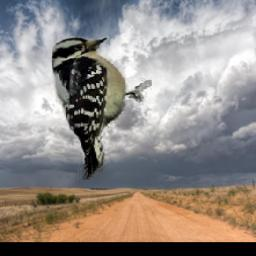Woodpecker: (47, 34, 152, 181)
